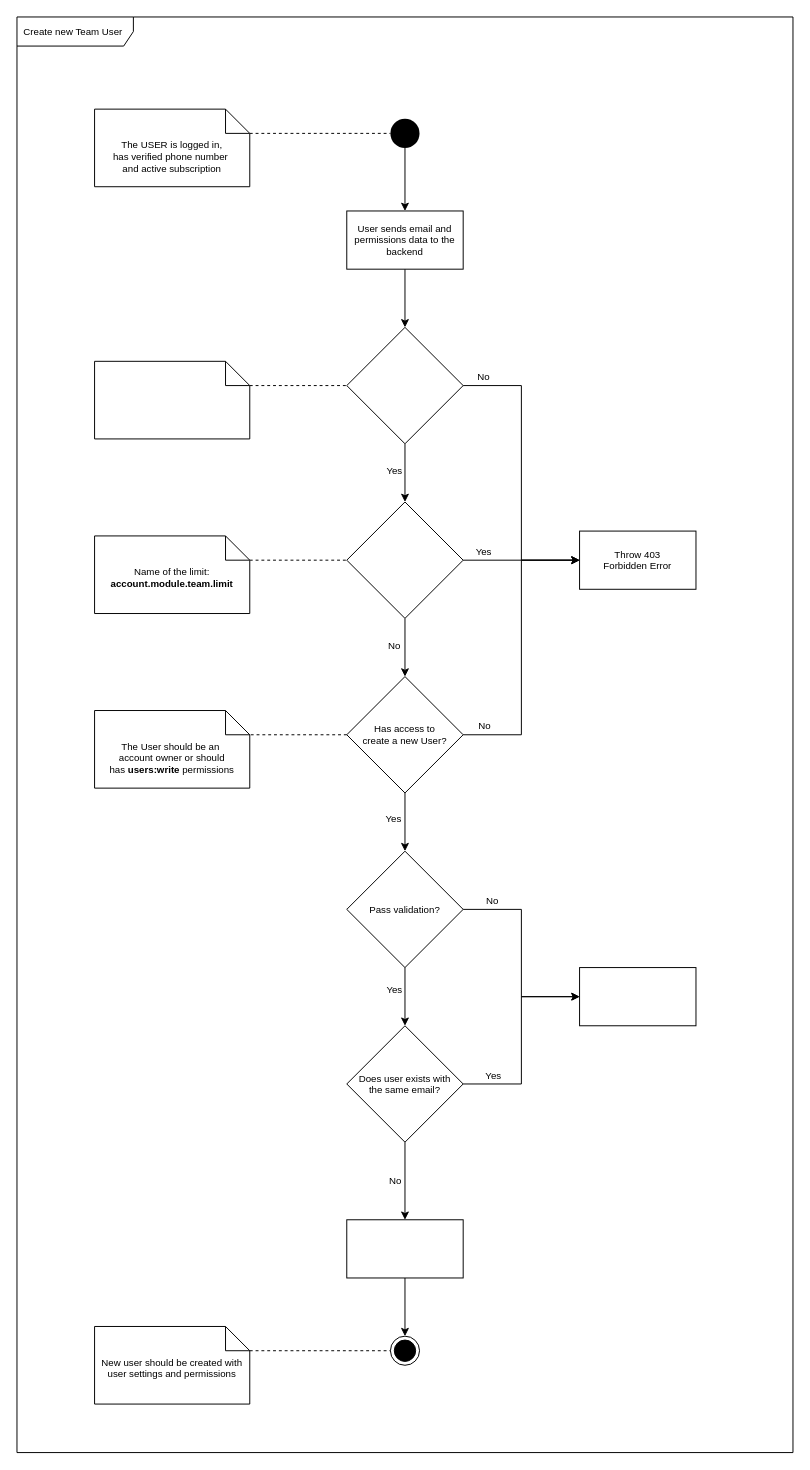
This 810x1470 diagram has some shape labels left out. The shapes that lost their labels are listed below. From the top down, each one's centre as x and y in pixels, then its label:
point 172,399: Name of the limit: account.module.team.enabled
point 404,385: Team module is enabled?
point 404,559: Team limit exceeded?
point 637,996: Throw 400 Bad Request Error
point 404,1248: Create new User and send confirmation email
